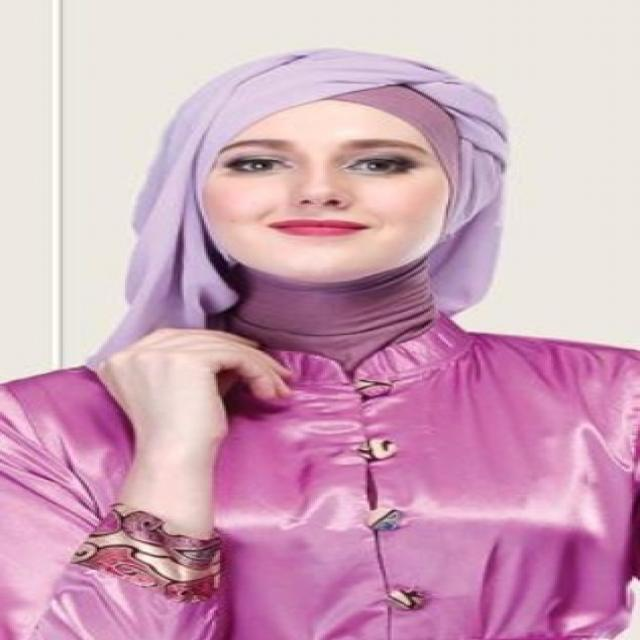head: (158, 40, 502, 305)
